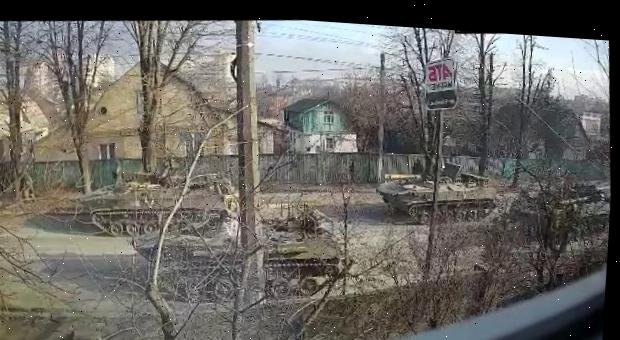tank: (128, 191, 359, 318), (71, 161, 243, 249), (372, 152, 501, 234), (507, 174, 612, 249)
